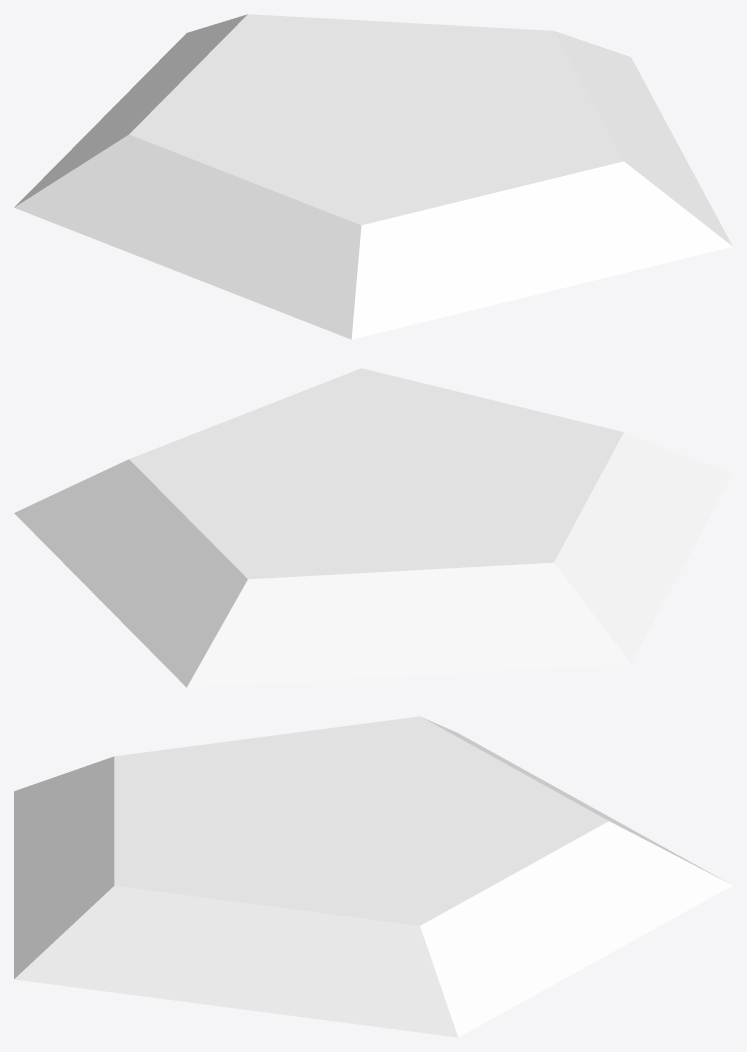
Rendered from water_ice_4.glb.
3 views of the same model, one above another, from view 1: azimuth 30°, elevation 25°; view 2: azimuth 150°, elevation 25°; view 3: azimuth 270°, elevation 25° (orthographic).
Parts seen in each view (by area): view 1: rock_single_A; view 2: rock_single_A; view 3: rock_single_A.
Part boxes in pixels (left/top/right/bottom): rock_single_A: left=14, top=14, right=732, bottom=339; rock_single_A: left=14, top=368, right=732, bottom=687; rock_single_A: left=14, top=716, right=732, bottom=1037.
Size of the model in its own units: 0.7037 by 0.0693 by 0.7024.
Materials: 1 (1 with a texture image).
